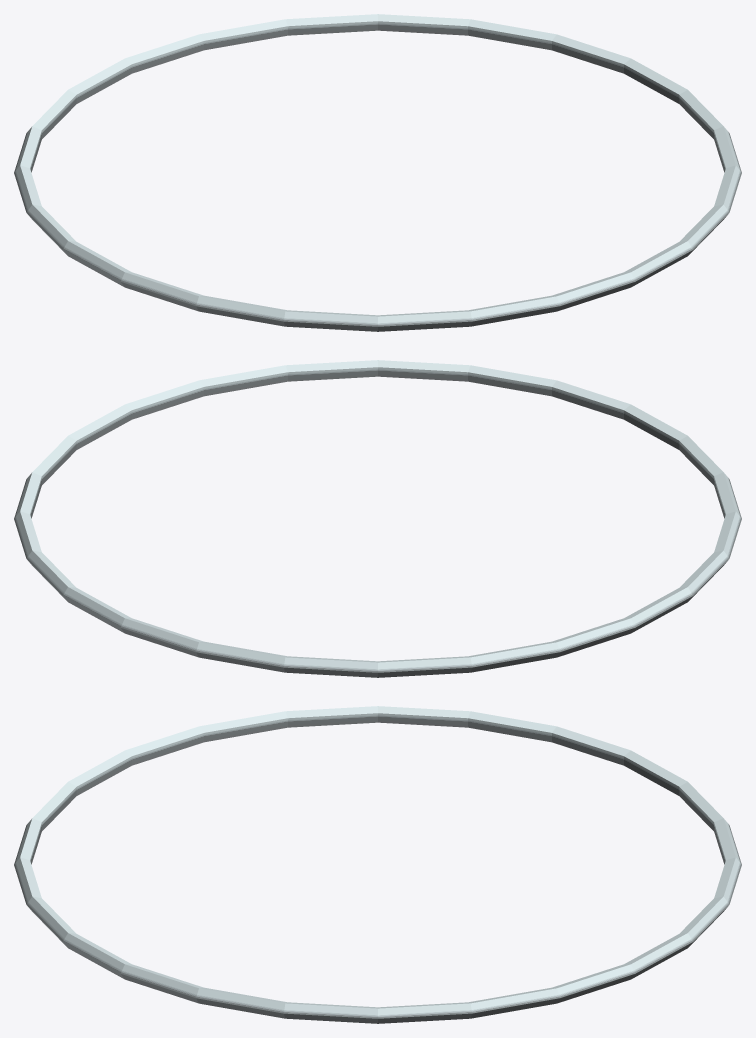
The model's file is SM_MOLECULA_LVL1.fbx.
3 renders of one model, top to bottom at view 1: azimuth 30°, elevation 25°; view 2: azimuth 150°, elevation 25°; view 3: azimuth 270°, elevation 25°, orthographic.
Parts seen in each view (by area): view 1: SM_MOLECULA_LVL1; view 2: SM_MOLECULA_LVL1; view 3: SM_MOLECULA_LVL1.
Part boxes in pixels (x1,y1,x2,y2): SM_MOLECULA_LVL1: (14,14,741,331); SM_MOLECULA_LVL1: (14,360,741,677); SM_MOLECULA_LVL1: (14,706,741,1023).
Bounding box in the file's own units: 41 × 0.9511 × 41.
1 material, 1 textured.
